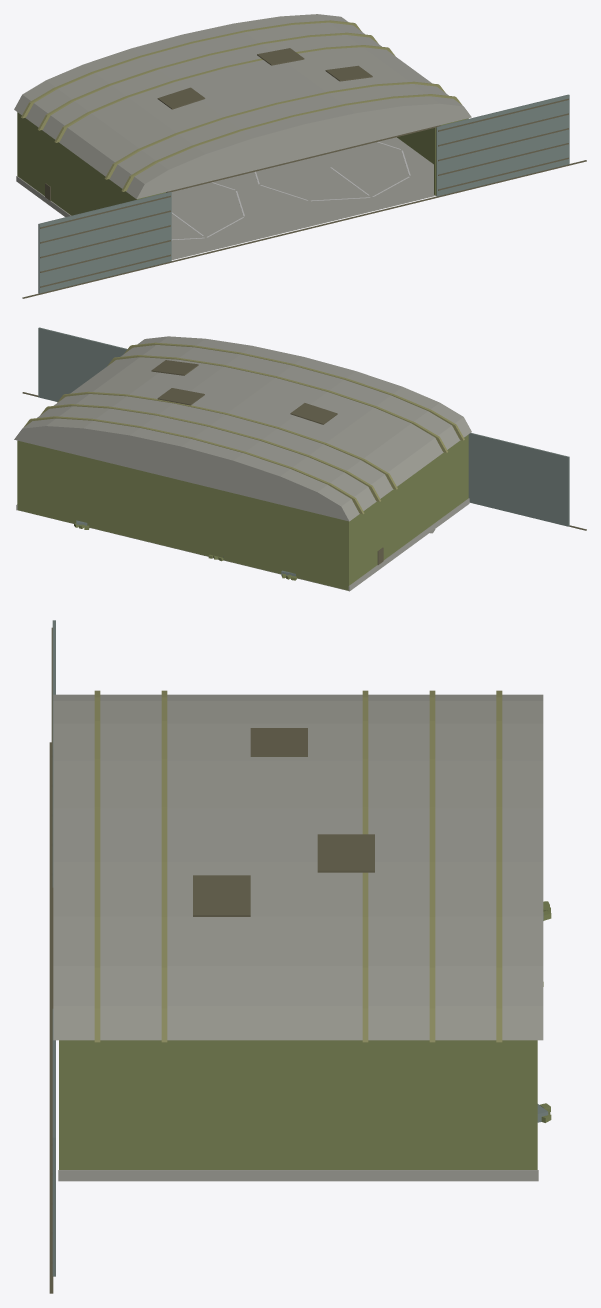
The model's file is SM_HangarAbierto_v3_Castigado_LOD0.fbx.
The picture shows the model from 3 angles, top to bottom: view 1: azimuth 30°, elevation 25°; view 2: azimuth 150°, elevation 25°; view 3: azimuth 270°, elevation 25°; orthographic projection. The views are drawn at different scales.
Visible parts, largest first — view 1: Cubierta, SM_hangar_abierto_v3_LOD0, Porton_E, Porton_O; view 2: Cubierta, SM_hangar_abierto_v3_LOD0, Porton_O, Porton_E; view 3: Cubierta, SM_hangar_abierto_v3_LOD0, Porton_E, Porton_O.
Part boxes in pixels (x1=…): Cubierta: x1=14, y1=14, x2=471, y2=199; SM_hangar_abierto_v3_LOD0: x1=16, y1=112, x2=586, y2=298; Porton_E: x1=436, y1=94, x2=569, y2=196; Porton_O: x1=38, y1=192, x2=171, y2=293; Cubierta: x1=14, y1=336, x2=471, y2=521; SM_hangar_abierto_v3_LOD0: x1=16, y1=392, x2=586, y2=591; Porton_O: x1=468, y1=433, x2=569, y2=526; Porton_E: x1=38, y1=327, x2=127, y2=401; Cubierta: x1=53, y1=690, x2=543, y2=1042; SM_hangar_abierto_v3_LOD0: x1=49, y1=742, x2=551, y2=1293; Porton_E: x1=51, y1=1009, x2=55, y2=1276; Porton_O: x1=51, y1=620, x2=55, y2=887.
Size of the model in its own units: 68 by 12.49 by 26.22.
